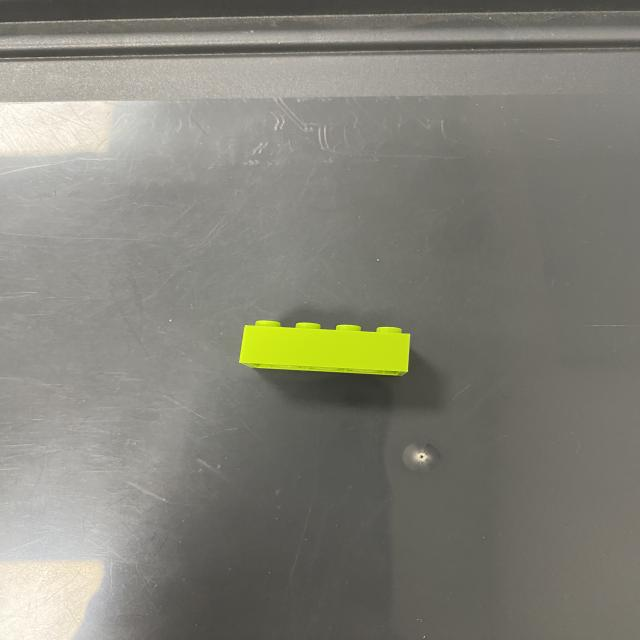C4x2x1: (237, 321, 412, 370)
